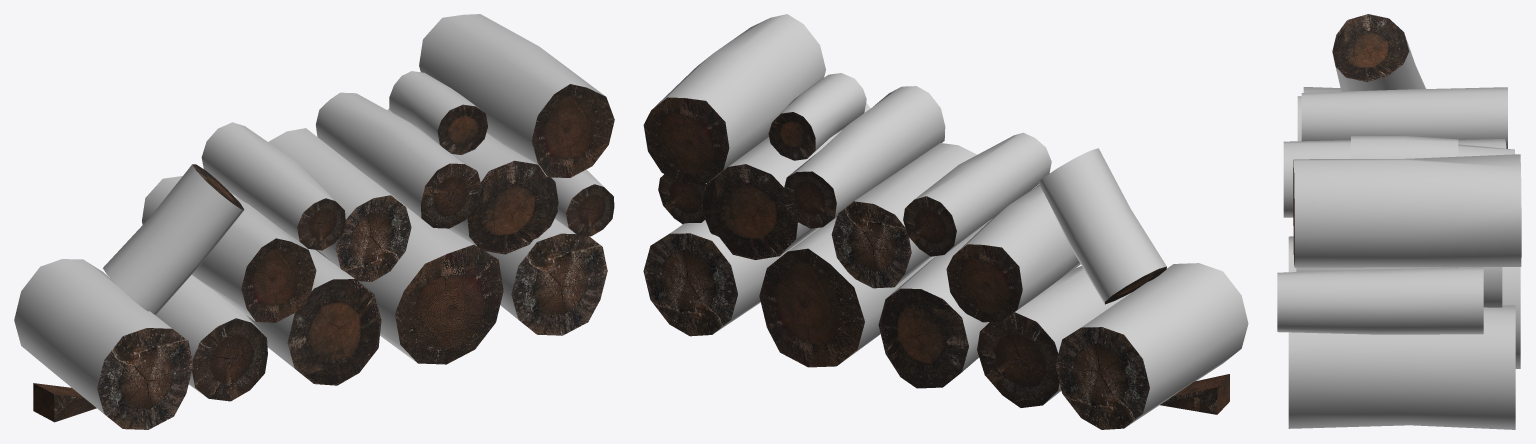
File: tree_ends_01.DAE
The picture shows the model from 3 angles, left to right: view 1: azimuth 30°, elevation 25°; view 2: azimuth 150°, elevation 25°; view 3: azimuth 270°, elevation 25°; orthographic projection. The views are drawn at different scales.
Parts seen in each view (by area): view 1: Object002, Object029; view 2: Object002, Object029; view 3: Object002, Object029.
Part boxes in pixels (bbox=[...]): Object002: bbox=[14, 14, 605, 413]; Object029: bbox=[33, 84, 614, 429]; Object002: bbox=[652, 14, 1248, 427]; Object029: bbox=[643, 97, 1229, 429]; Object002: bbox=[1277, 34, 1521, 429]; Object029: bbox=[1293, 14, 1409, 264].
Size of what is drawn, in the model's own units: 2.53 by 1.13 by 0.9357.
